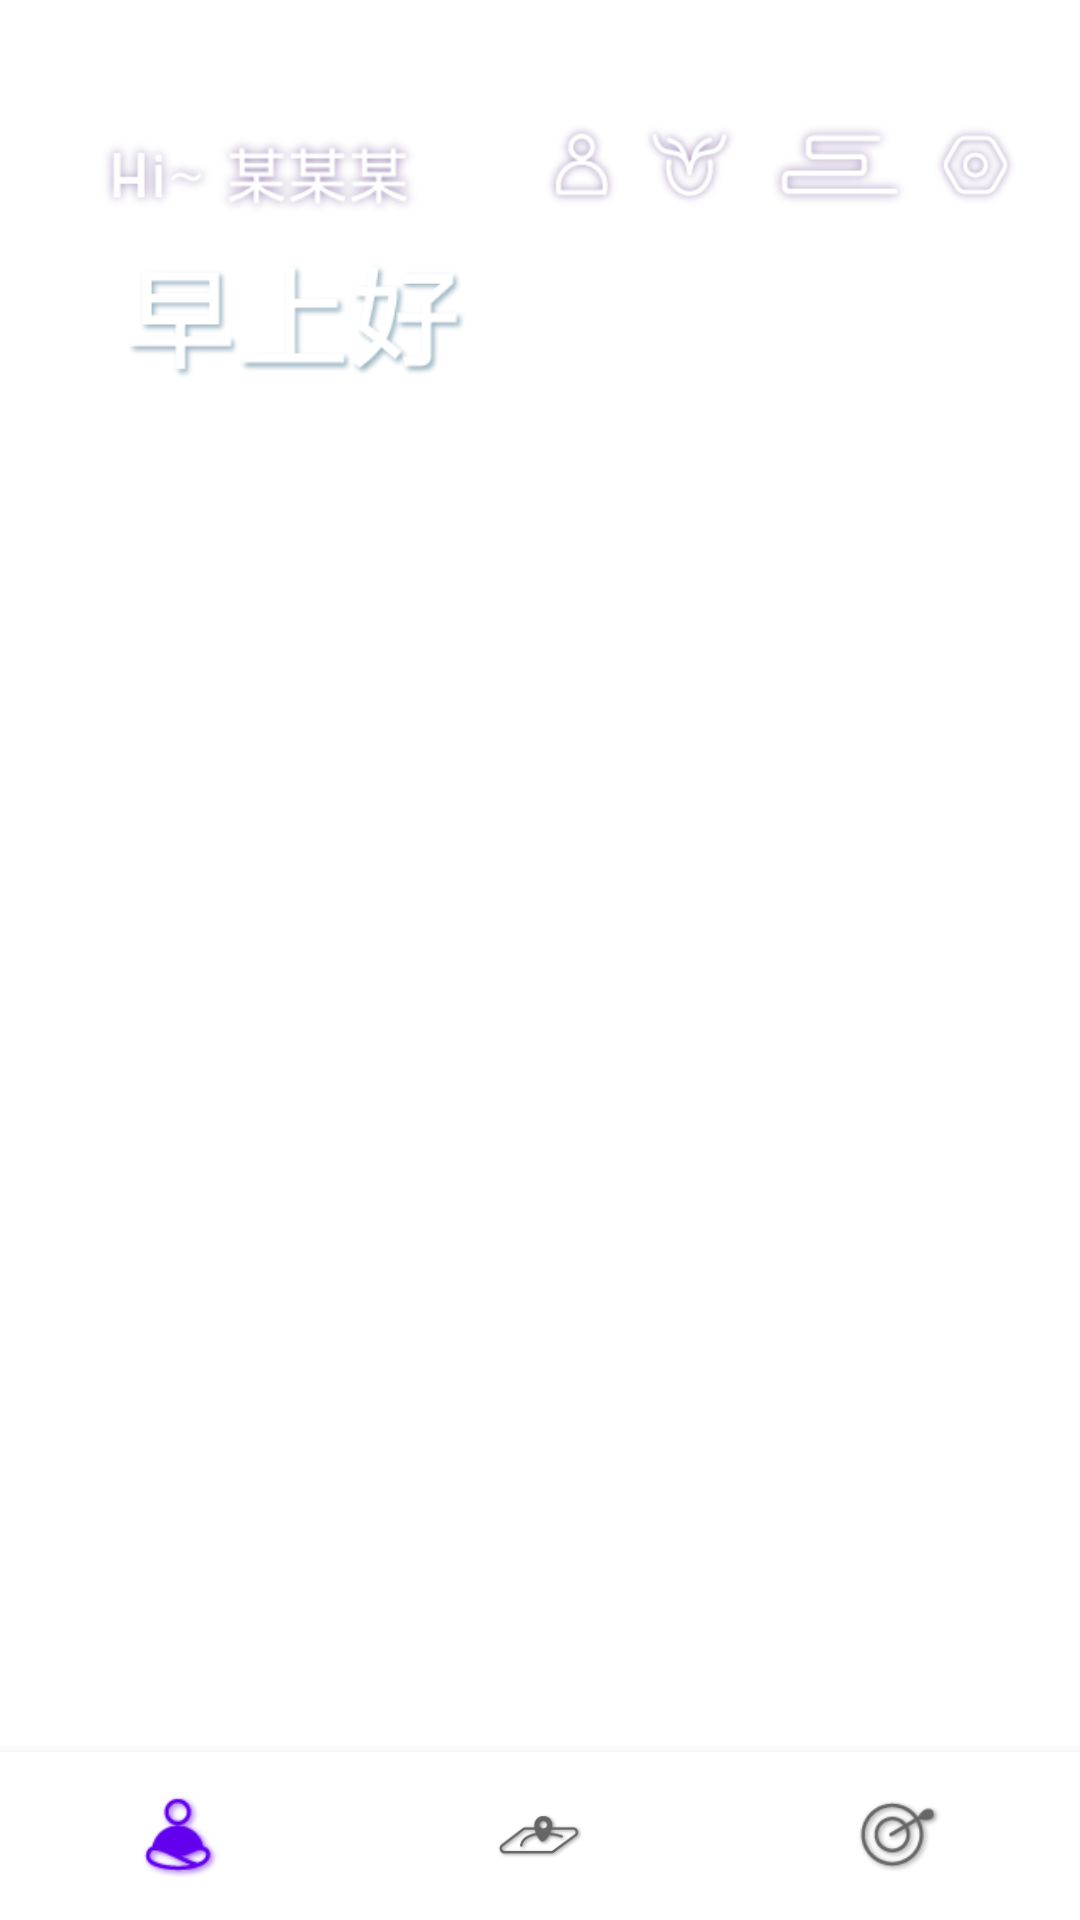

Icon bounding boxes for this 1080*1920 phone screenshot, format (x1, y1, x2, y2):
deer day: (651, 135, 728, 199)
personal day: (552, 131, 611, 199)
setting day: (941, 133, 1010, 197)
